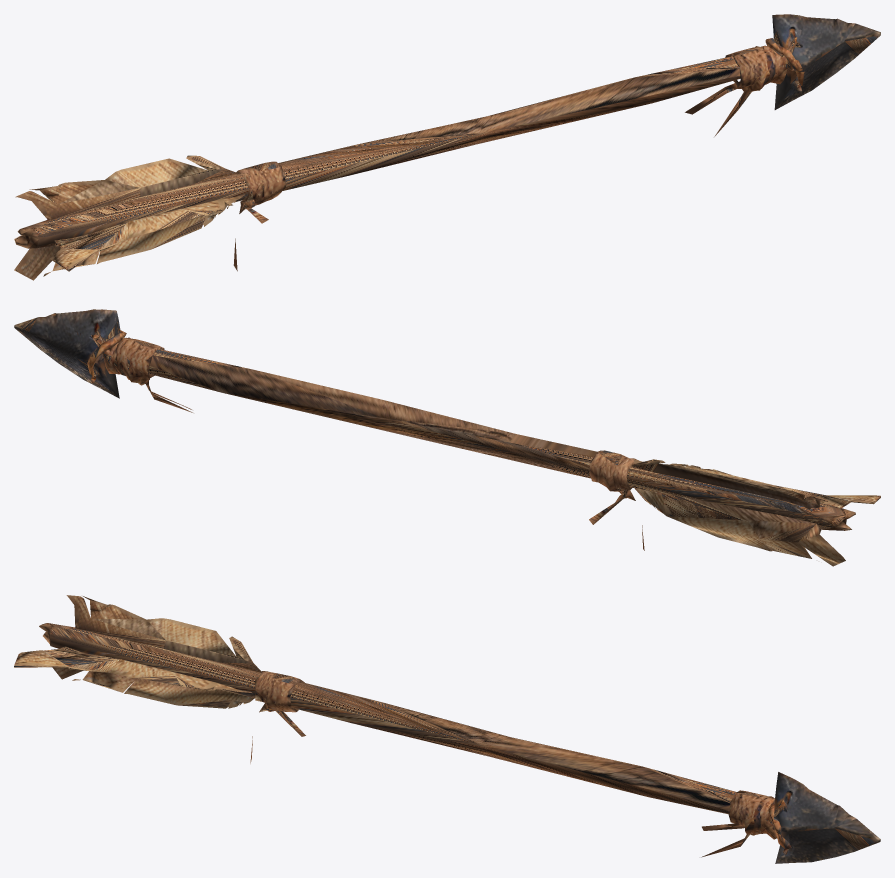
File: arrow.glb
3 views of the same model, one above another, from view 1: azimuth 30°, elevation 25°; view 2: azimuth 150°, elevation 25°; view 3: azimuth 330°, elevation 25° (orthographic). The views are drawn at different scales.
Visible parts, largest first — view 1: d7bafe85_03a8_43d7_aea8_c0dbe8895b01; view 2: d7bafe85_03a8_43d7_aea8_c0dbe8895b01; view 3: d7bafe85_03a8_43d7_aea8_c0dbe8895b01.
Boxes of the visible parts, x1,y1,x2,y2 form: d7bafe85_03a8_43d7_aea8_c0dbe8895b01: [14, 14, 880, 280]; d7bafe85_03a8_43d7_aea8_c0dbe8895b01: [14, 309, 880, 566]; d7bafe85_03a8_43d7_aea8_c0dbe8895b01: [14, 595, 880, 863].
Bounding box in the file's own units: 1 × 0.1336 × 0.1123.
1 material, 1 textured.
